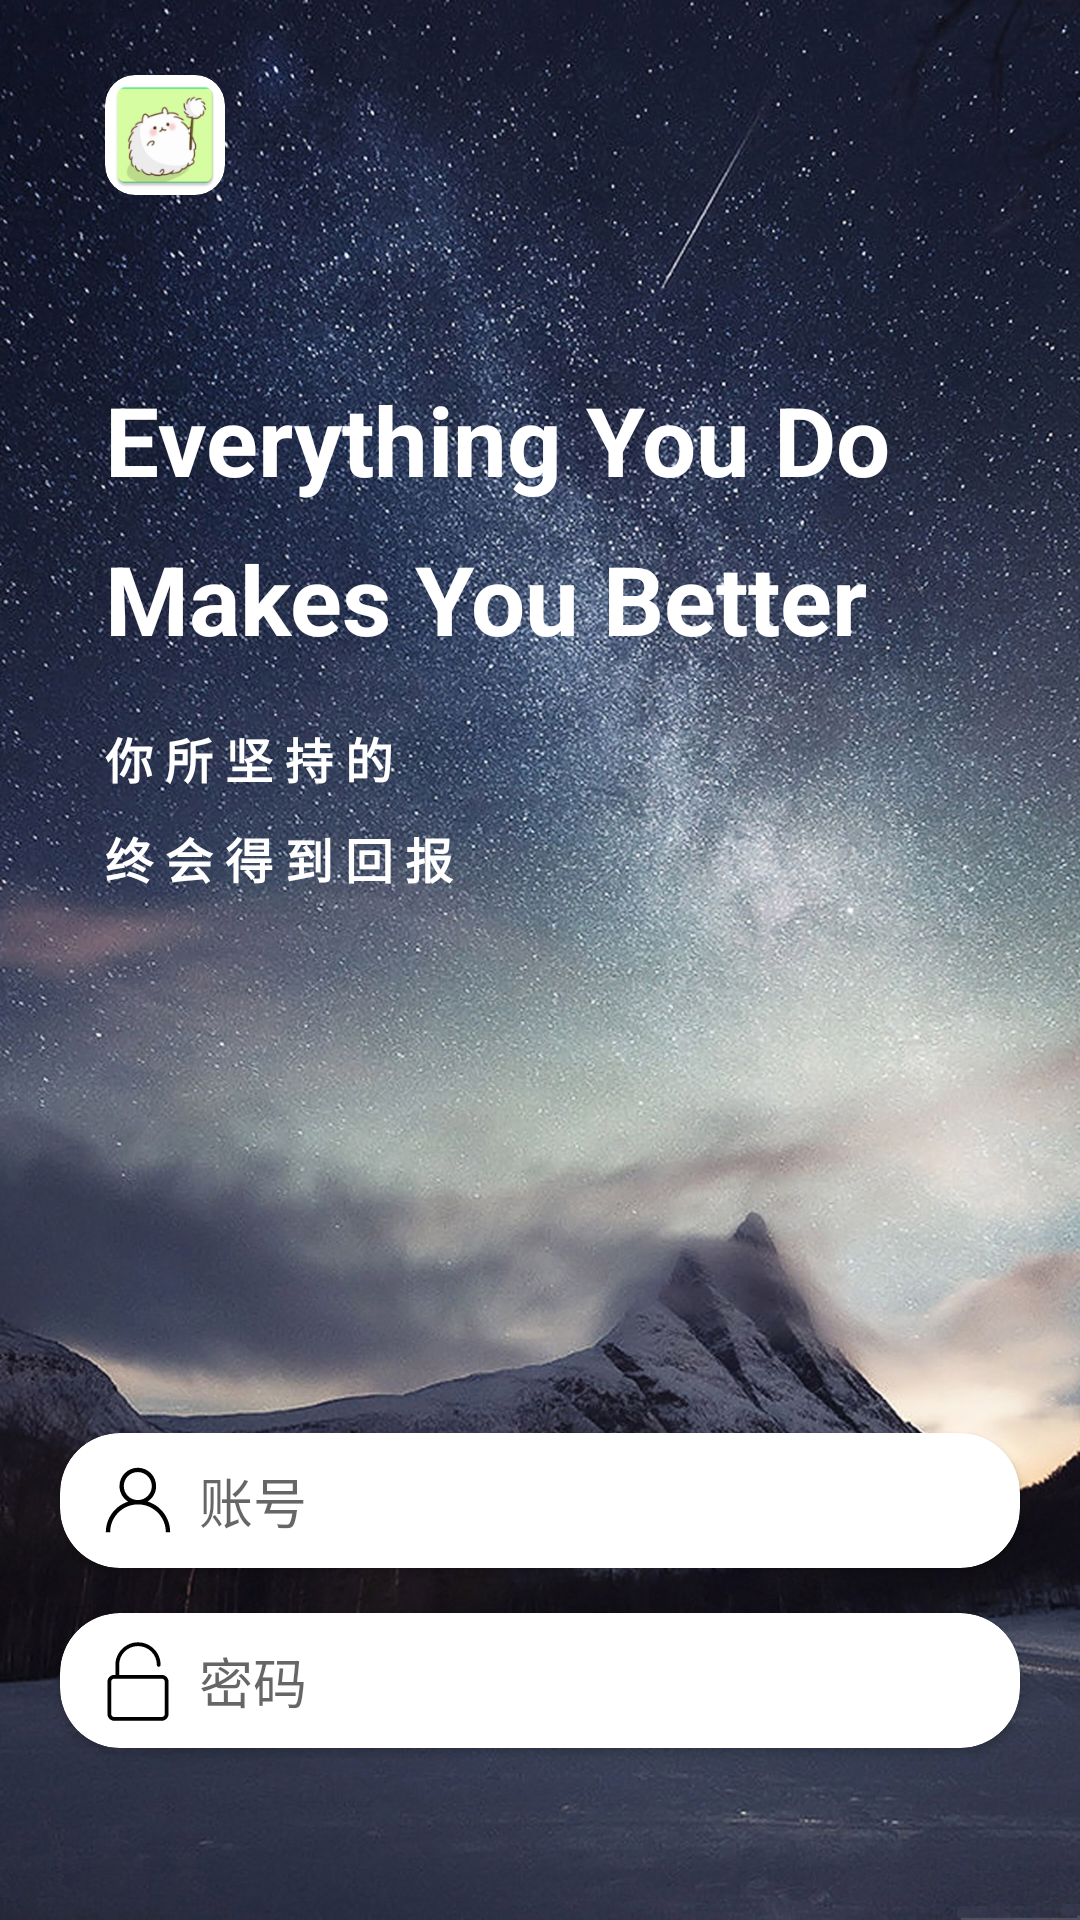

Locate icon controls on the screen. Image size 1080×1920, boxes as (x1, y1, x2, y2).
app: (105, 75, 225, 195)
